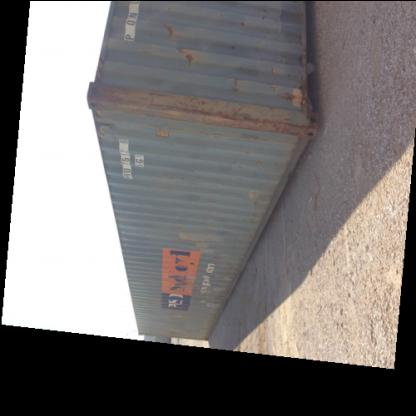Damage: (154, 96, 270, 131), (202, 246, 221, 292), (164, 210, 186, 246), (240, 184, 262, 219), (278, 84, 311, 106), (170, 42, 199, 66), (90, 107, 106, 138), (172, 270, 192, 292), (156, 20, 182, 36), (222, 74, 244, 91)
